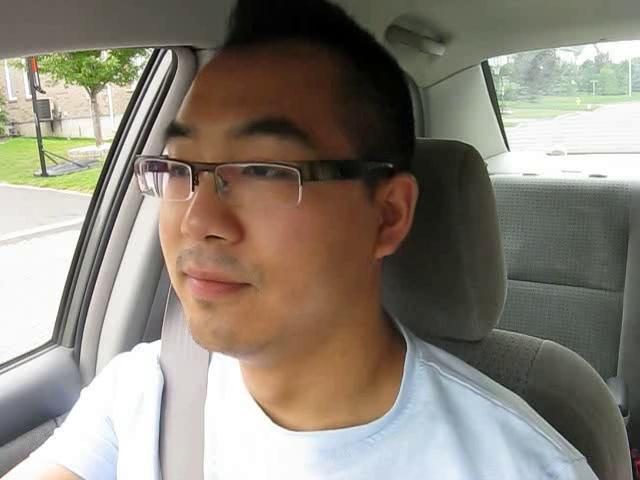no_yawn: (157, 248, 268, 321)
open_eyeL: (148, 149, 204, 196)
open_eyeR: (221, 145, 306, 206)
